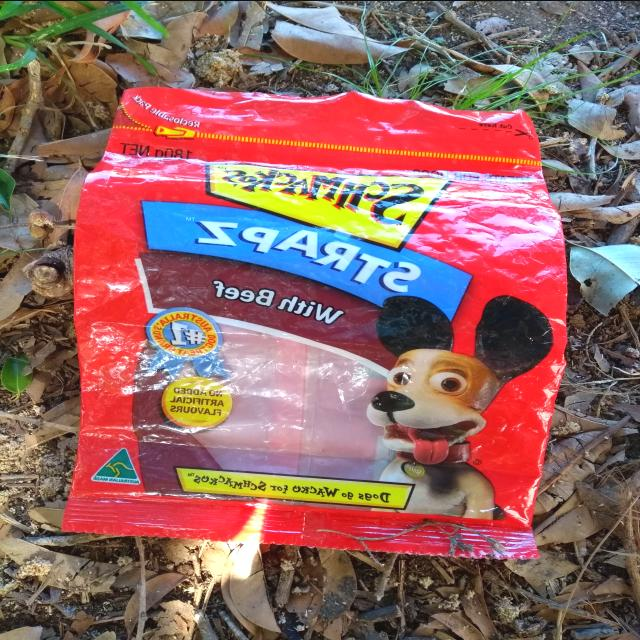Other plastic: (62, 85, 567, 558)
